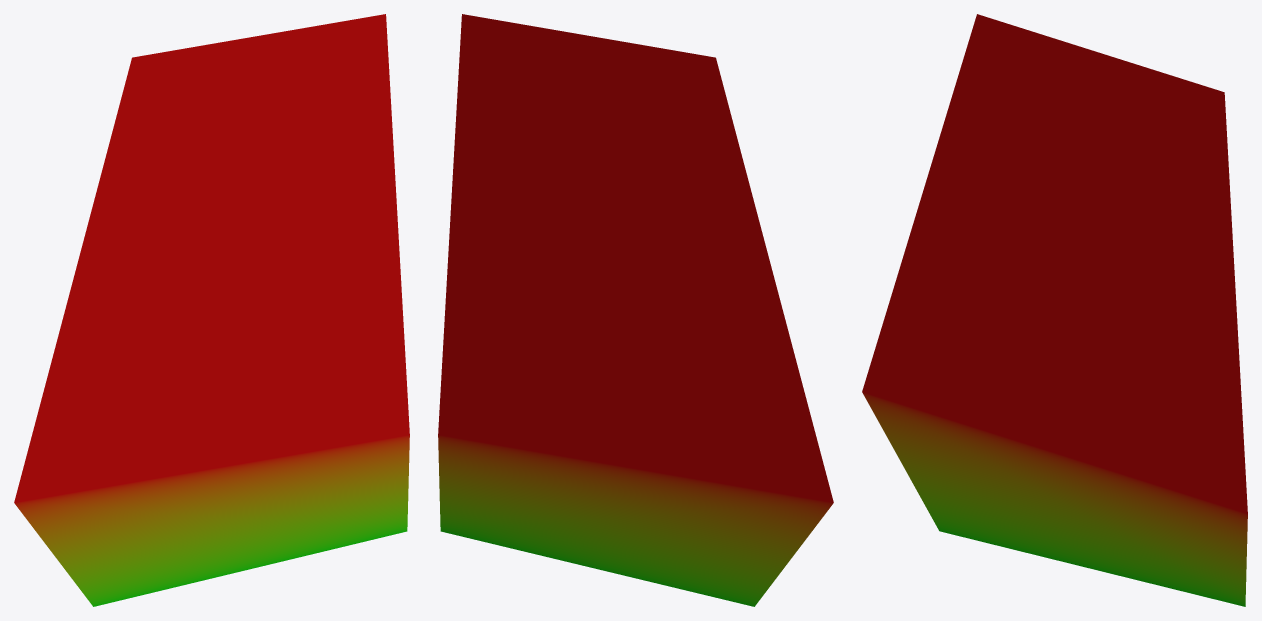
File: Var4_LOD4.fbx
3 views of the same model, side by side, from view 1: azimuth 30°, elevation 25°; view 2: azimuth 150°, elevation 25°; view 3: azimuth 330°, elevation 25° (orthographic). The views are drawn at different scales.
Visible parts, largest first — view 1: _9126_Var4_LOD4; view 2: _9126_Var4_LOD4; view 3: _9126_Var4_LOD4.
Boxes of the visible parts, x1,y1,x2,y2 form: _9126_Var4_LOD4: [14, 14, 409, 606]; _9126_Var4_LOD4: [438, 14, 833, 606]; _9126_Var4_LOD4: [862, 14, 1247, 606].
Bounding box in the file's own units: 42.9 × 56.03 × 8.52e-06.
